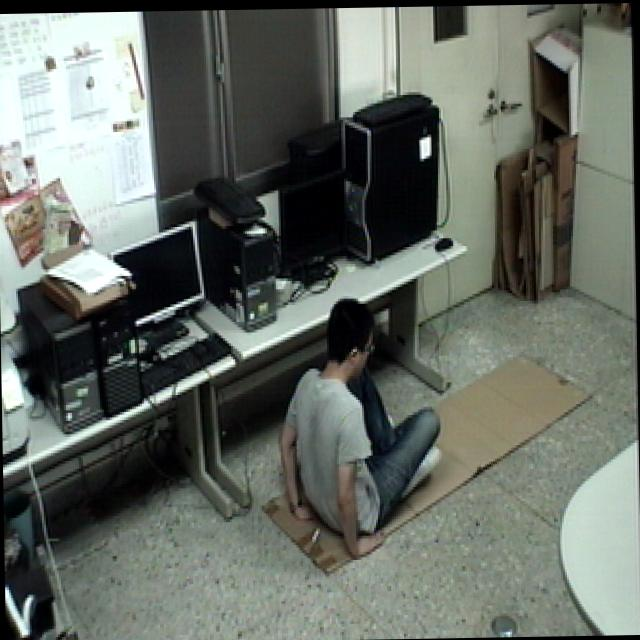sit: (274, 289, 448, 570)
